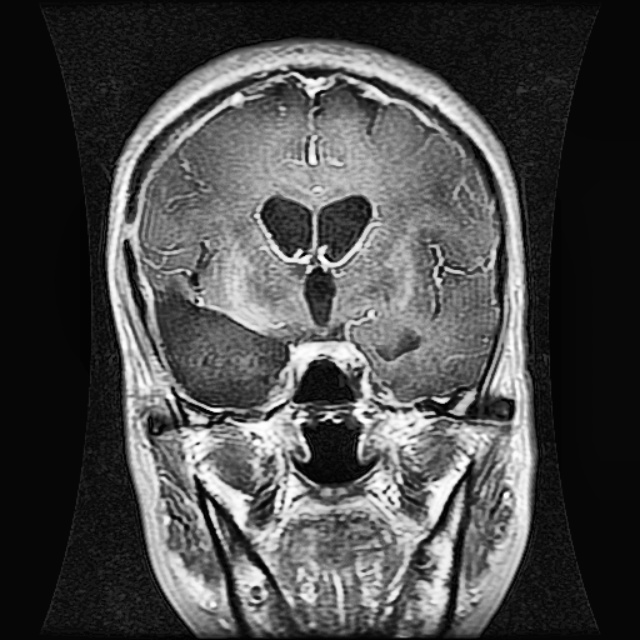Meningioma: (157, 280, 289, 405)
